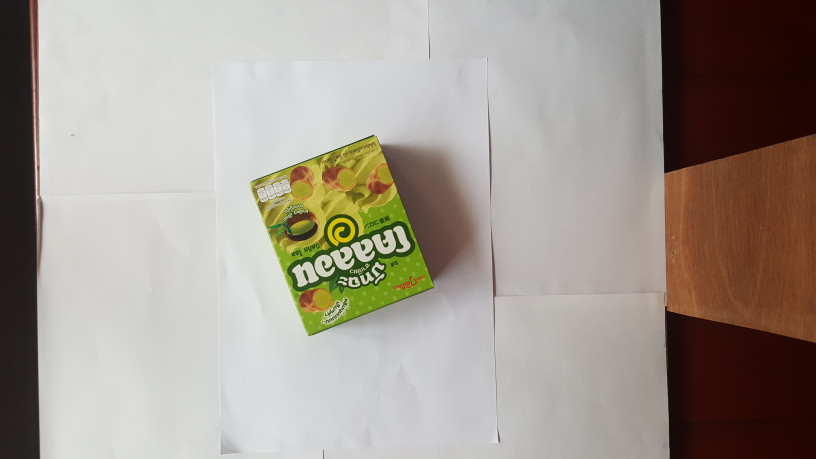collon-matcha: (251, 132, 437, 338)
